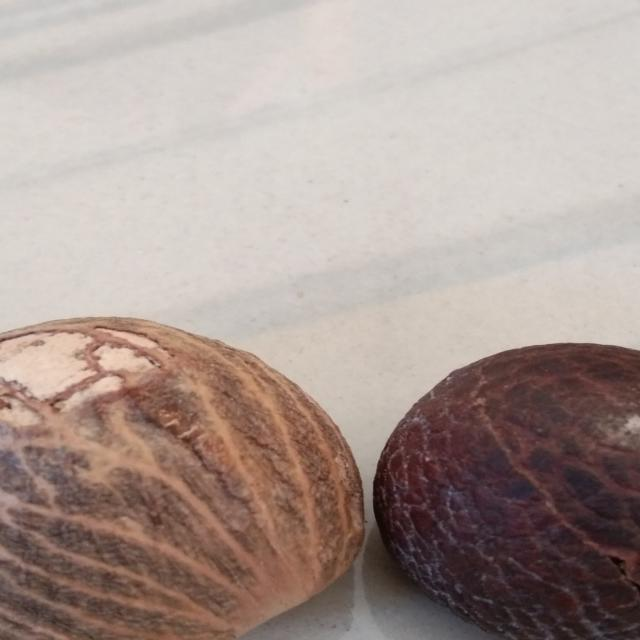good: (0, 324, 364, 640)
karigot: (383, 330, 640, 640)
phatora: (0, 324, 370, 640)
